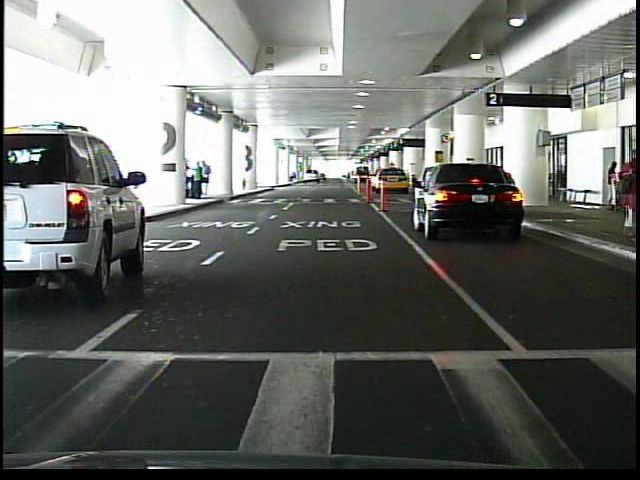person: (614, 149, 640, 240), (604, 156, 620, 212), (190, 160, 203, 200), (202, 161, 213, 198)
